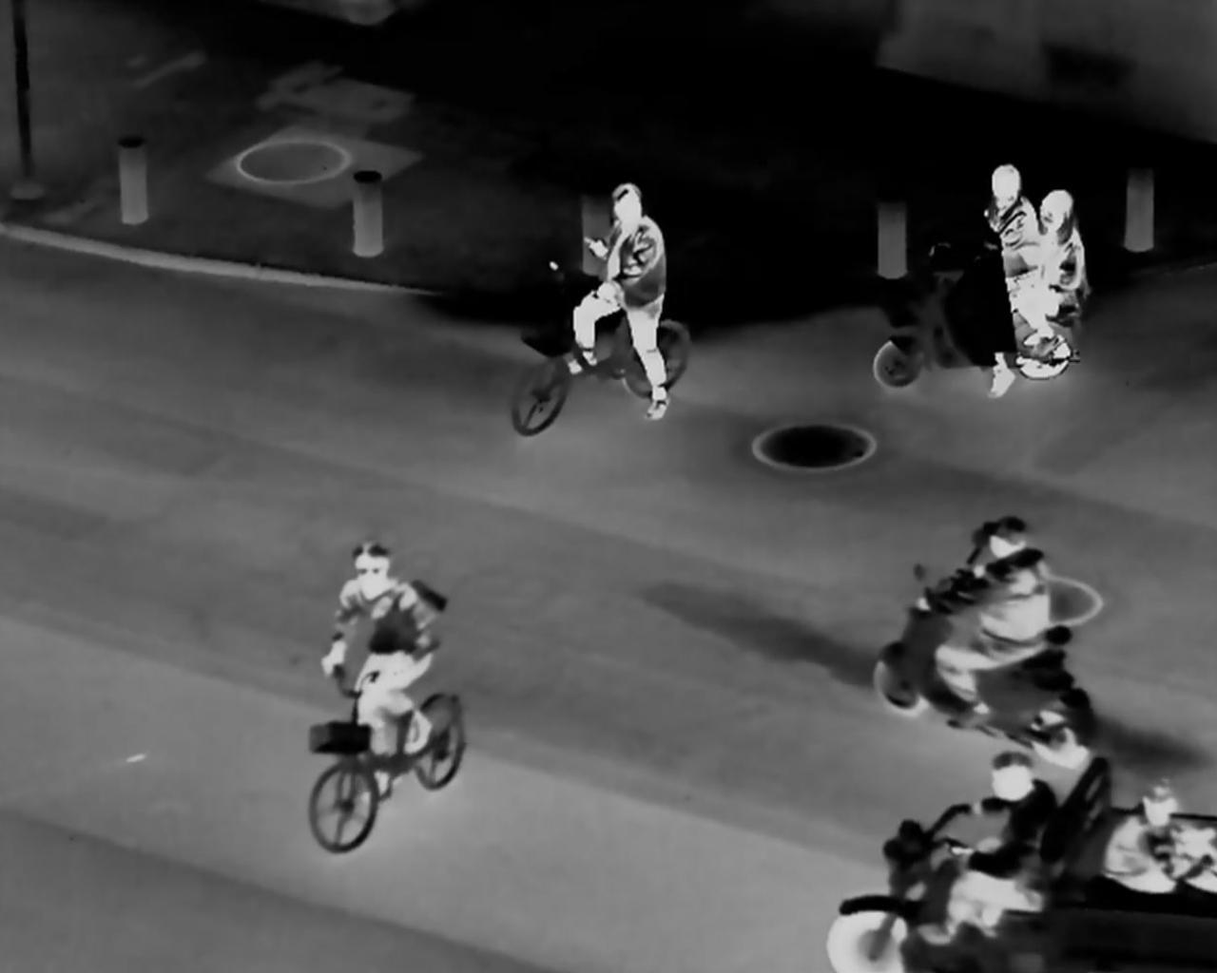person: (331, 538, 451, 787), (568, 174, 679, 440), (933, 501, 1055, 728), (917, 746, 1062, 934), (960, 159, 1039, 393), (1036, 184, 1084, 321)
